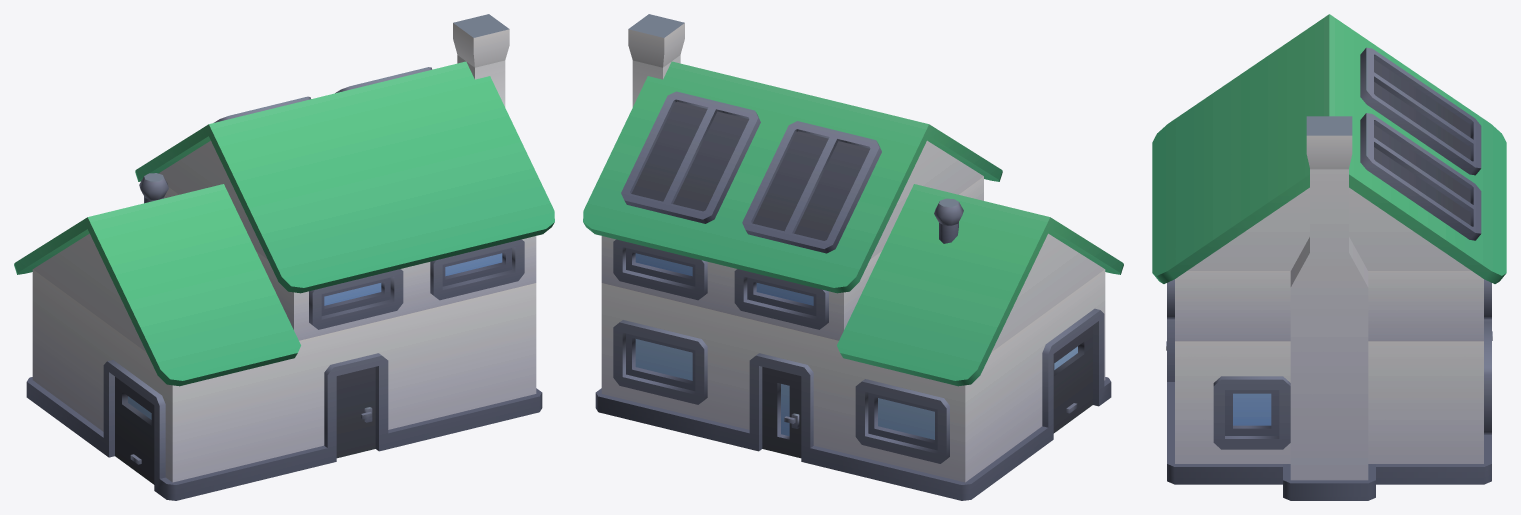
Rendered from house-j.glb.
3 renders of one model, left to right at view 1: azimuth 30°, elevation 25°; view 2: azimuth 150°, elevation 25°; view 3: azimuth 270°, elevation 25°, orthographic. The views are drawn at different scales.
Parts seen in each view (by area): view 1: building-type-j; view 2: building-type-j; view 3: building-type-j.
Boxes of the visible parts, box(x1,y1,x2,y2) form: building-type-j: box(14, 14, 554, 500); building-type-j: box(583, 14, 1123, 500); building-type-j: box(1152, 14, 1506, 500).
Size of the model in its own units: 1.37 by 1.04 by 0.9161.
1 material, 1 textured.
